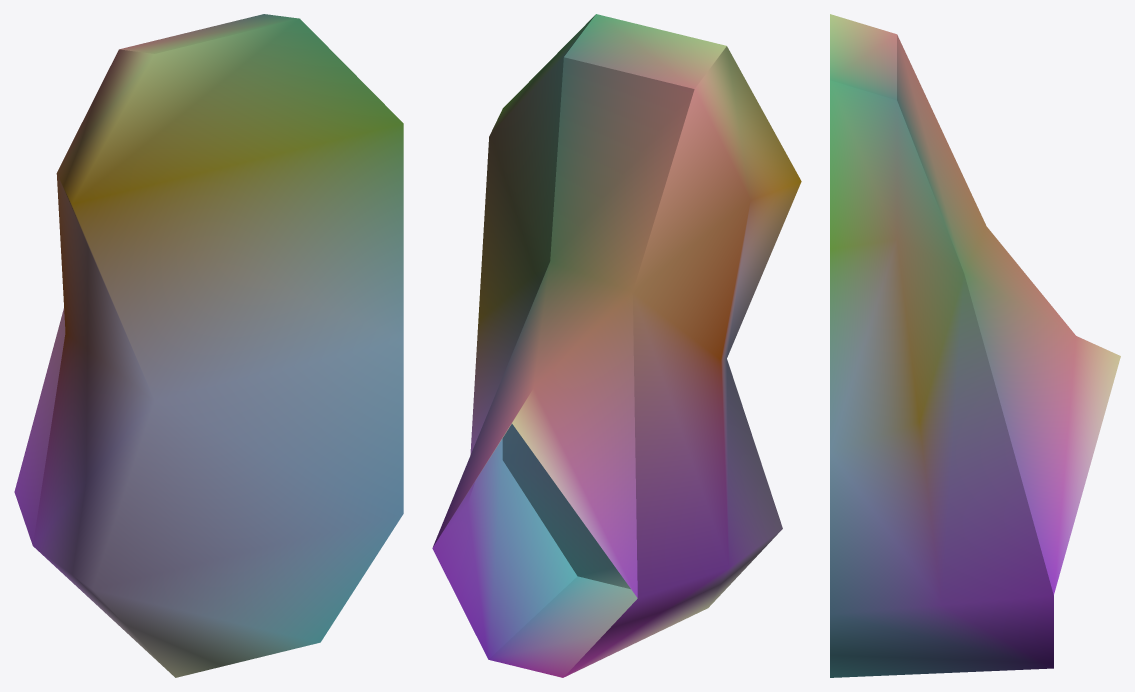
3 views of the same model, side by side, from view 1: azimuth 30°, elevation 25°; view 2: azimuth 150°, elevation 25°; view 3: azimuth 270°, elevation 25° (orthographic). The views are drawn at different scales.
Visible parts, largest first — view 1: part; view 2: part; view 3: part.
Part boxes in pixels (x1,y1,x2,y2): part: (14, 14, 403, 677); part: (432, 14, 801, 677); part: (830, 14, 1120, 677).
Size of the model in its own units: 16 by 29 by 13.
